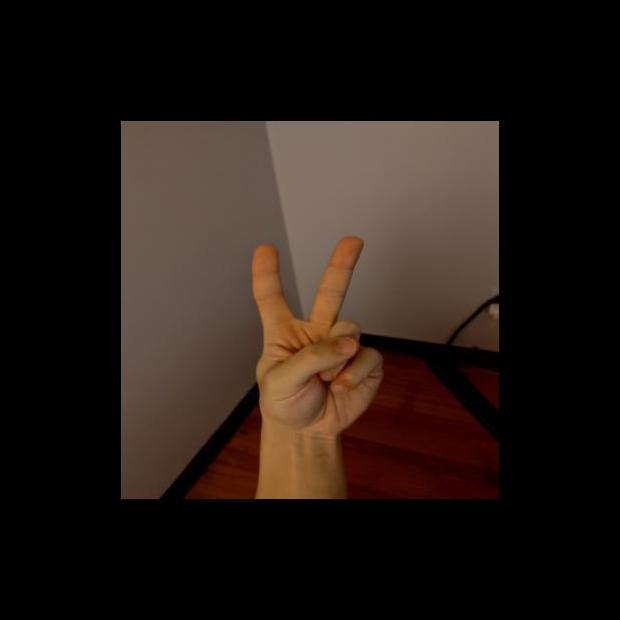U: (244, 233, 393, 438)
